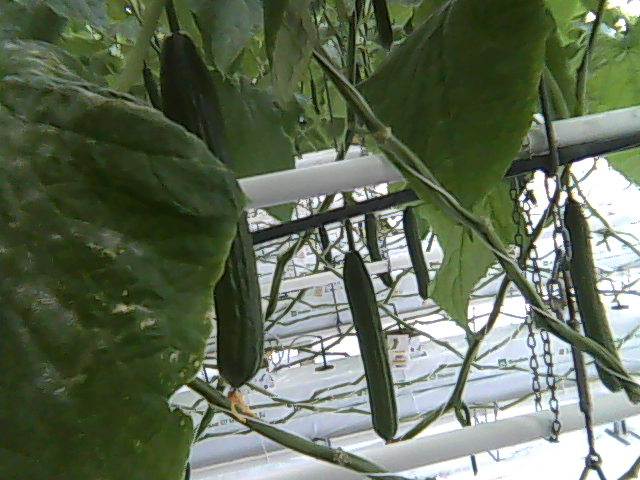concombre: (154, 20, 269, 425)
